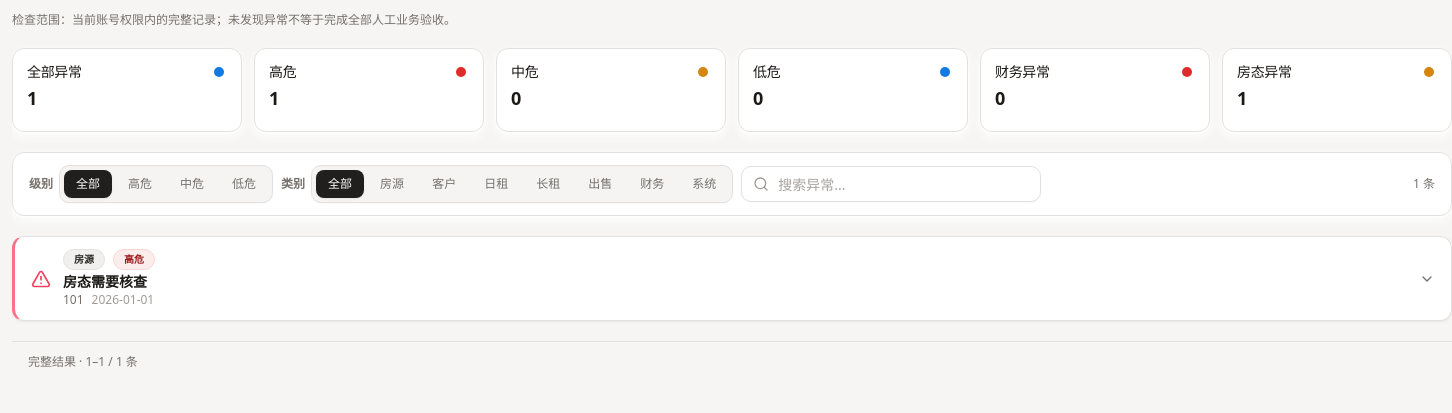
Test: honest quality states › does not label an empty filter result healthy
Click the button "低危": click(244, 184) [220,170,268,198]
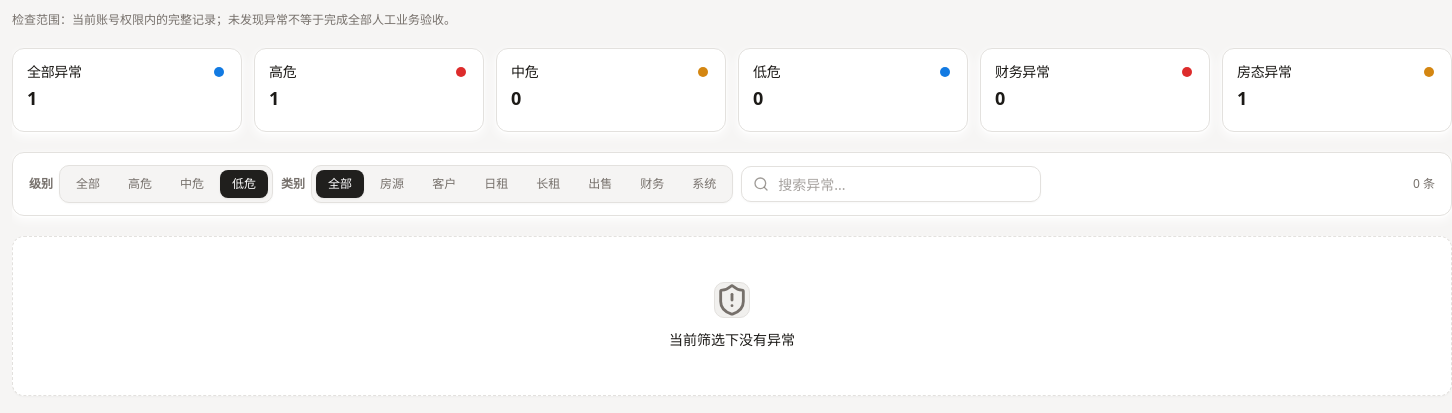
Result: the text "当前筛选下没有异常" is shown at [669,330,795,350]
